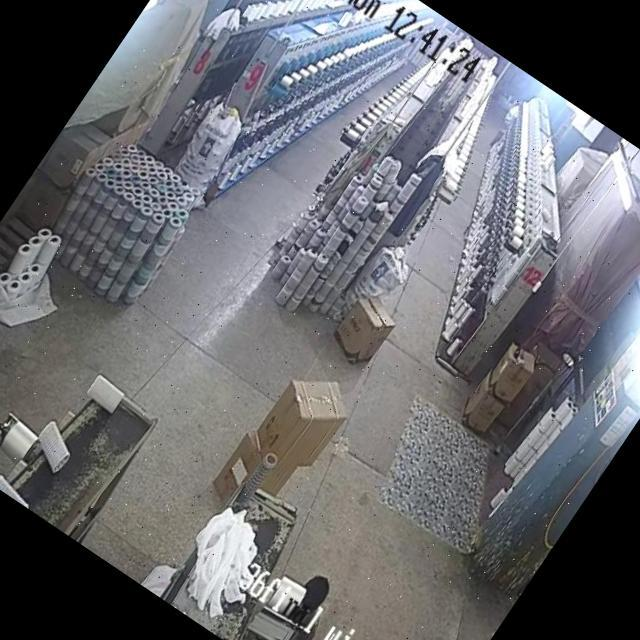person: (282, 570, 344, 635)
